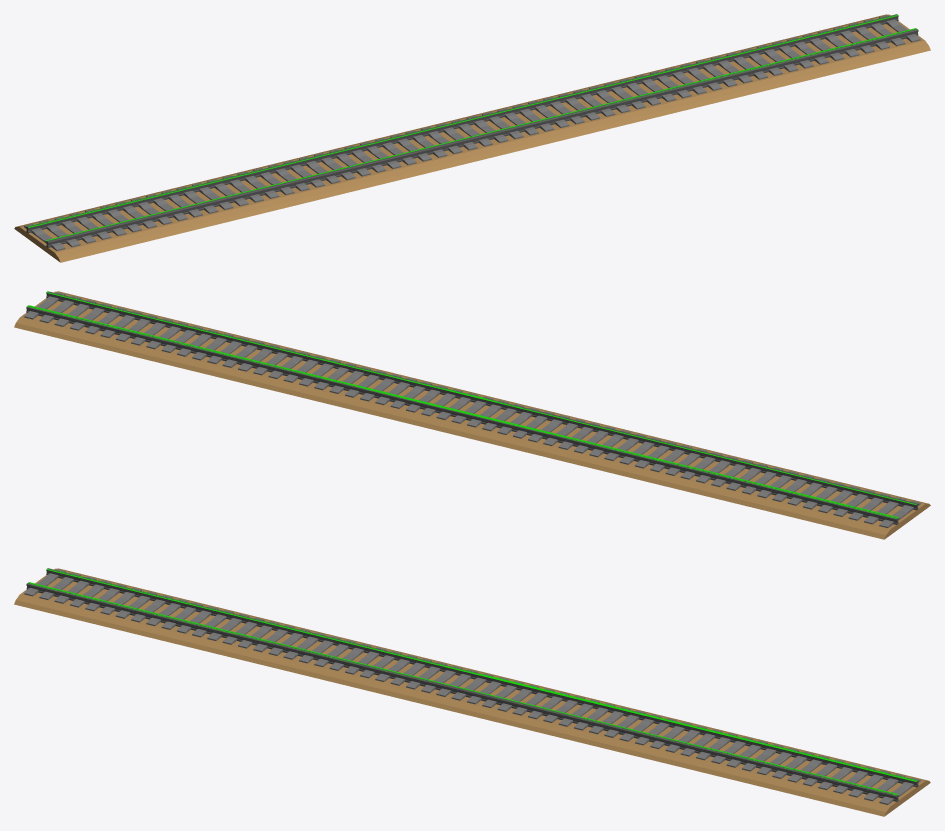
The model's file is straight.fbx.
The picture shows the model from 3 angles, top to bottom: view 1: azimuth 30°, elevation 25°; view 2: azimuth 150°, elevation 25°; view 3: azimuth 330°, elevation 25°; orthographic projection.
Visible parts, largest first — view 1: straight, collide; view 2: straight, collide; view 3: straight, collide.
Part boxes in pixels (bbox=[...]): straight: bbox=[14, 14, 930, 262]; collide: bbox=[28, 15, 917, 240]; straight: bbox=[14, 291, 930, 539]; collide: bbox=[27, 291, 917, 518]; straight: bbox=[14, 568, 930, 816]; collide: bbox=[27, 569, 917, 795].
Bounding box in the file's own units: 4000 × 50.52 × 372.
